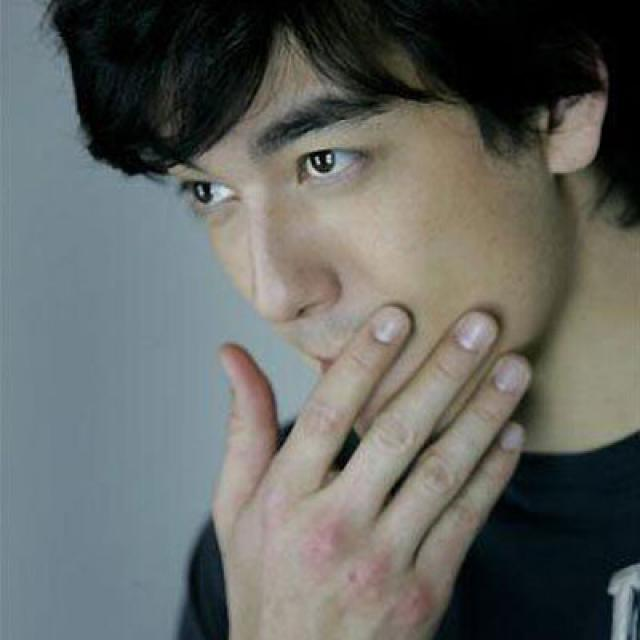nomask: (166, 2, 534, 466)
